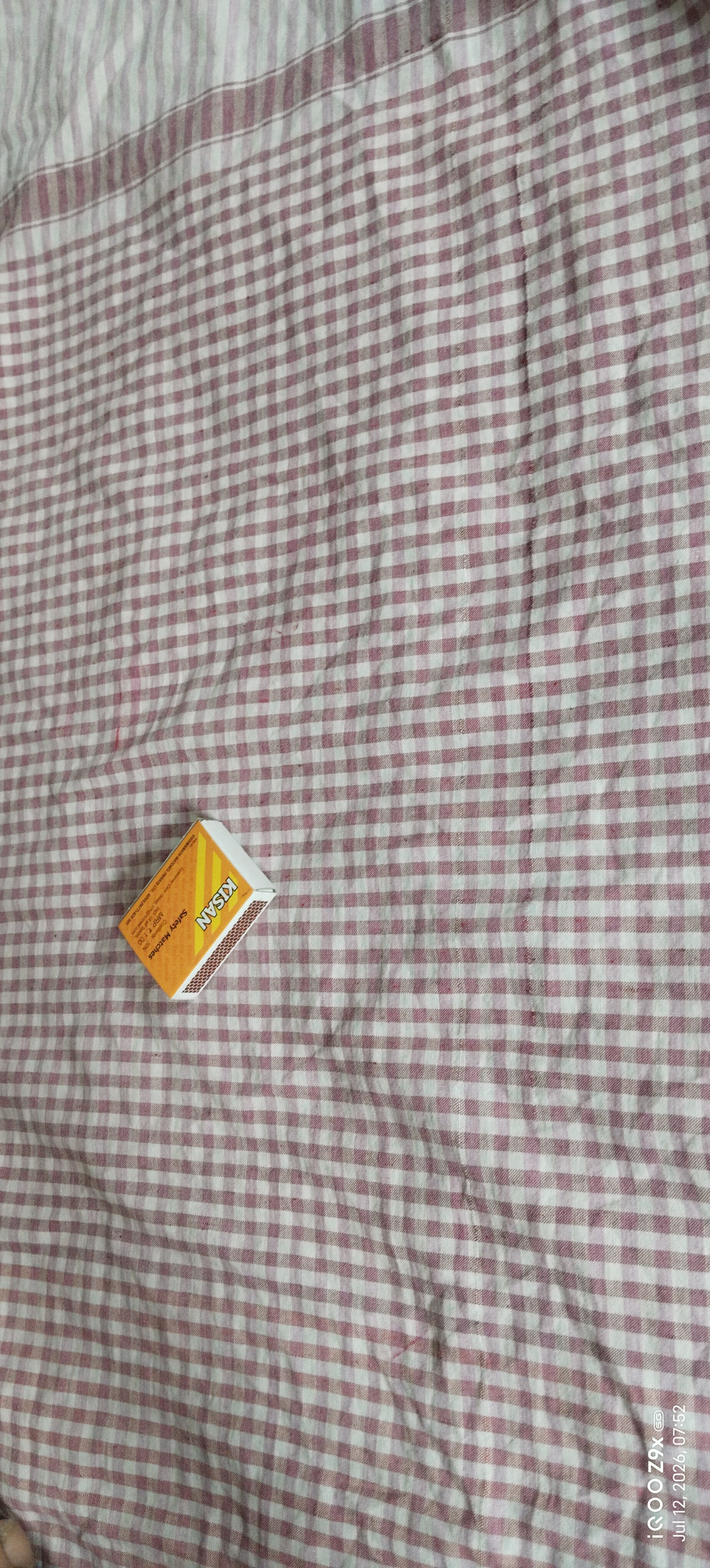matchbox: (90, 771, 296, 1061)
